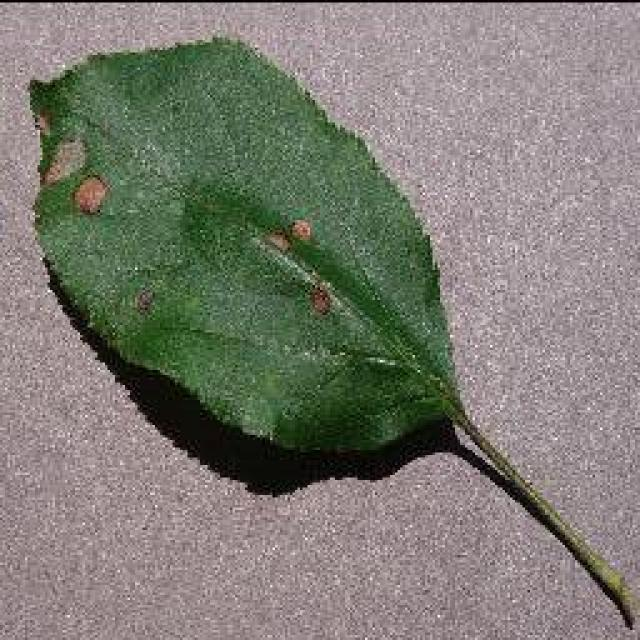apple black rot: (25, 32, 467, 488)
